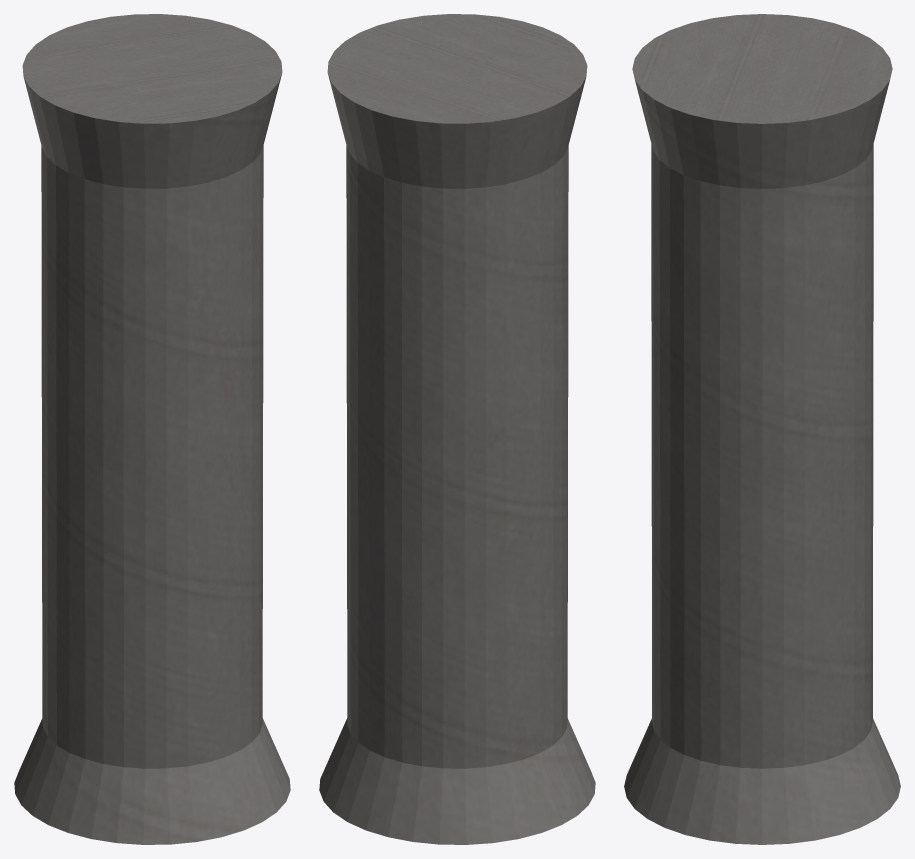
The model's file is texturedpipe.obj.
The picture shows the model from 3 angles, left to right: view 1: azimuth 30°, elevation 25°; view 2: azimuth 150°, elevation 25°; view 3: azimuth 270°, elevation 25°; orthographic projection.
Visible parts, largest first — view 1: Cylinder; view 2: Cylinder; view 3: Cylinder.
Part boxes in pixels (<box>): Cylinder: <box>14,14,290,844</box>; Cylinder: <box>319,14,595,844</box>; Cylinder: <box>624,14,900,844</box>.
Bounding box in the file's own units: 2 × 5.72 × 2.
1 material, 1 textured.
